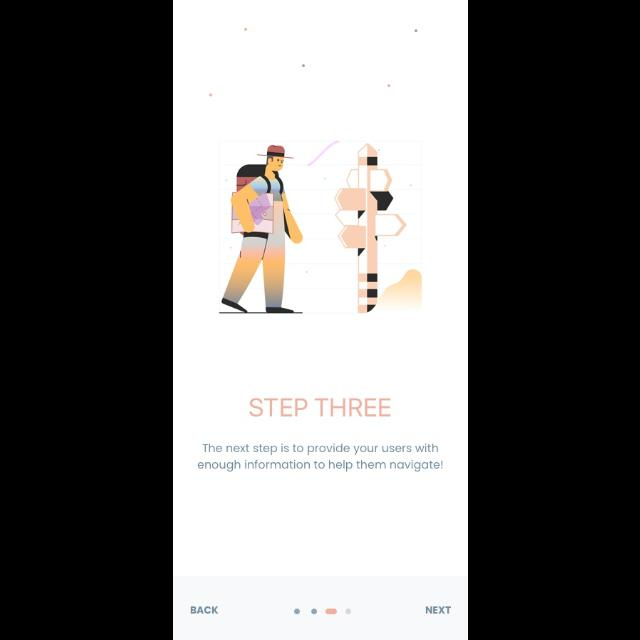image: (218, 136, 426, 314)
pageindicator: (293, 606, 352, 616)
text: (196, 443, 444, 473), (248, 398, 392, 418), (190, 605, 220, 615), (424, 605, 452, 615)
